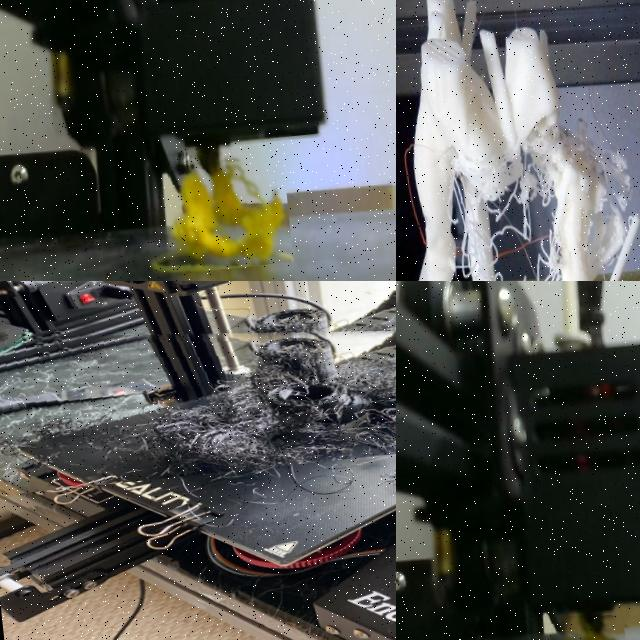spaghetti: (0, 284, 396, 496), (423, 123, 635, 281), (166, 150, 294, 274), (570, 105, 640, 281), (469, 187, 571, 281), (438, 132, 482, 281), (513, 116, 578, 196), (549, 608, 628, 640)
